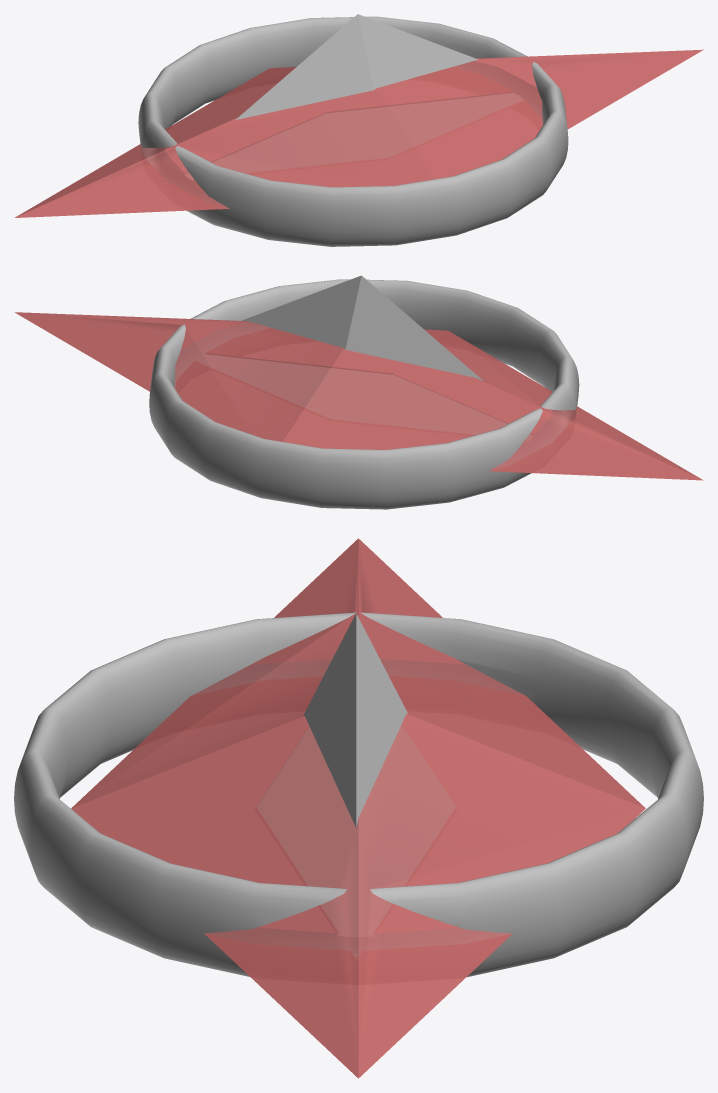
Rendered from note3.fbx.
The picture shows the model from 3 angles, top to bottom: view 1: azimuth 30°, elevation 25°; view 2: azimuth 150°, elevation 25°; view 3: azimuth 270°, elevation 25°; orthographic projection. The views are drawn at different scales.
Parts seen in each view (by area): view 1: polySurface16; view 2: polySurface16; view 3: polySurface16.
Part boxes in pixels (x1=…): polySurface16: x1=14, y1=14, x2=703, y2=246; polySurface16: x1=15, y1=275, x2=703, y2=509; polySurface16: x1=14, y1=538, x2=703, y2=1078.
Bounding box in the file's own units: 4.87 × 0.9927 × 2.63.
